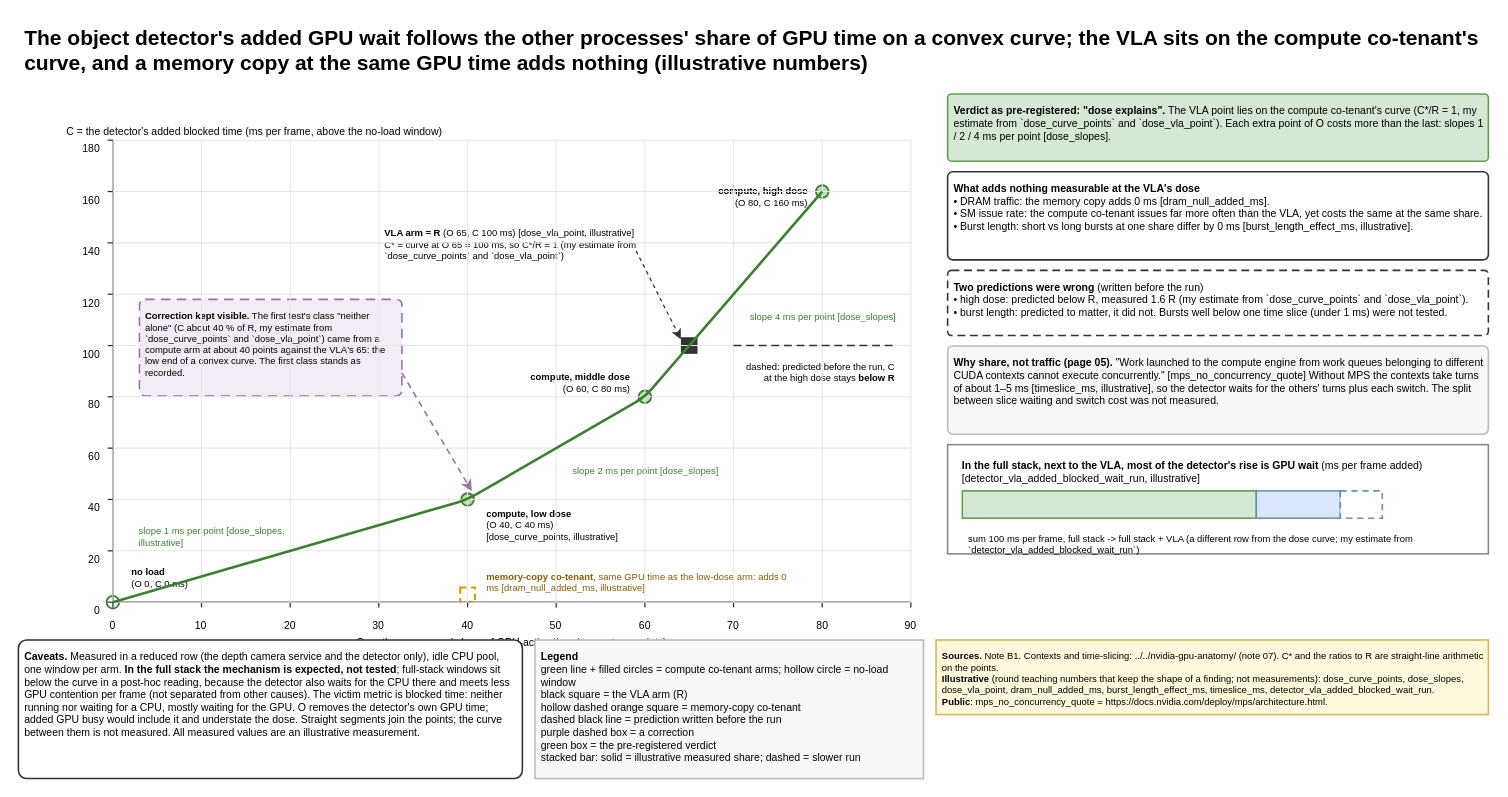
Image size: 1508x797. Some labels were removed from this diagram. Each missing label, with the box of its shape:
blocked 70: (961, 490, 1257, 518)
CPU wait 20: (1255, 490, 1341, 518)
run 10: (1339, 490, 1383, 518)
